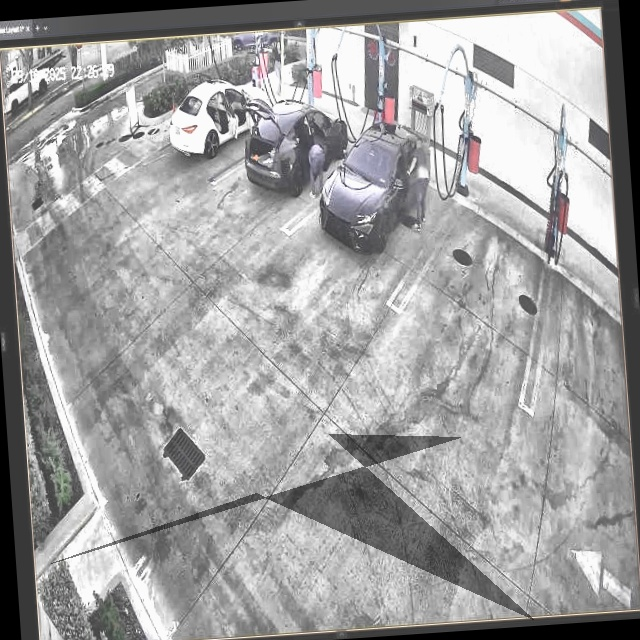Car: (313, 119, 437, 248), (244, 91, 352, 188), (165, 75, 274, 160)
